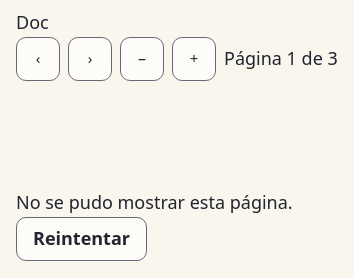
it: cambiar de página limpia el error de render
Expected: the message "No se pudo mostrar esta página." is shown, [16,190,293,214]
Click the button named "Página siguiente": x=90, y=59 [68,37,112,81]
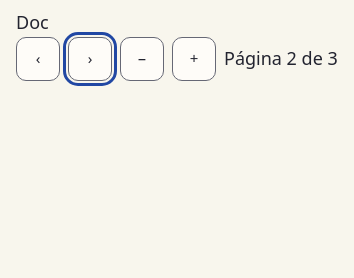
Now the message "No se pudo mostrar esta página." is gone
Now the text "Página 2 de 3" is shown, box [224,45,338,73]
